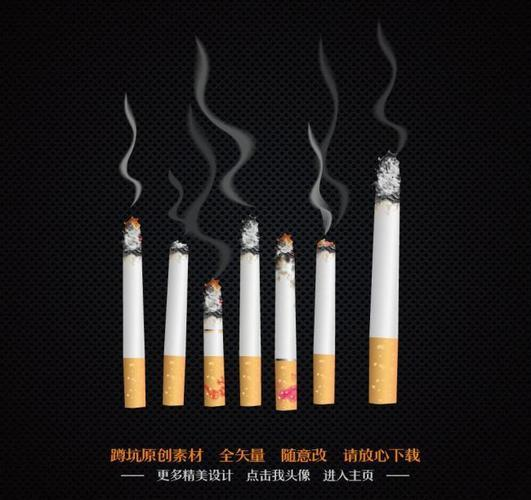smoke: (369, 153, 401, 405), (122, 216, 148, 410), (162, 240, 190, 407), (273, 234, 299, 411), (239, 215, 263, 406), (313, 239, 335, 404), (203, 278, 227, 408)
